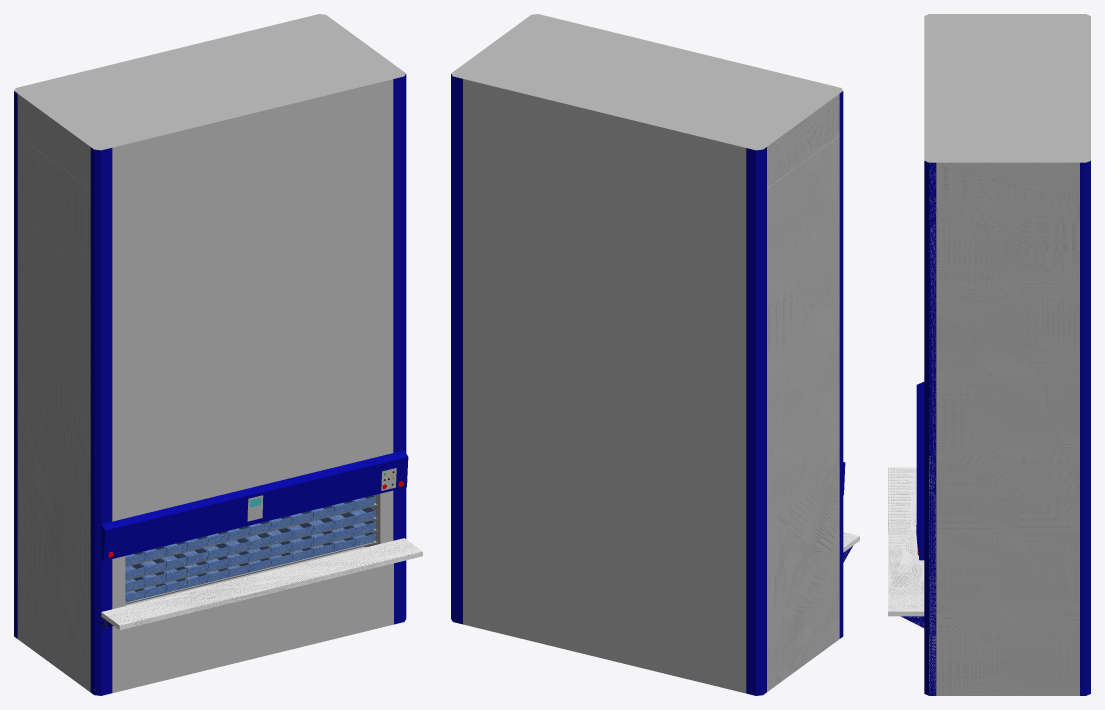
The model's file is kardex.fbx.
3 views of the same model, side by side, from view 1: azimuth 30°, elevation 25°; view 2: azimuth 150°, elevation 25°; view 3: azimuth 270°, elevation 25° (orthographic). The views are drawn at different scales.
Visible parts, largest first — view 1: Model, Group1, Group103; view 2: Model; view 3: Model, Group1.
Boxes of the visible parts, left/top/right/bottom form: Model: left=14, top=14, right=422, bottom=695; Group1: left=101, top=450, right=408, bottom=560; Group103: left=125, top=506, right=378, bottom=604; Model: left=451, top=14, right=859, bottom=695; Model: left=888, top=14, right=1090, bottom=695; Group1: left=916, top=382, right=924, bottom=560.
Size of the model in its own units: 350 by 585 by 202.
